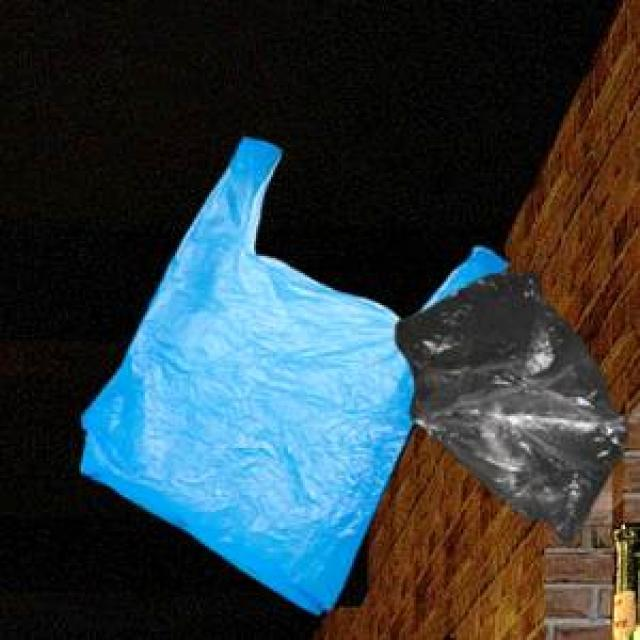Plastic_Bag: (78, 136, 504, 612), (391, 270, 624, 541)
